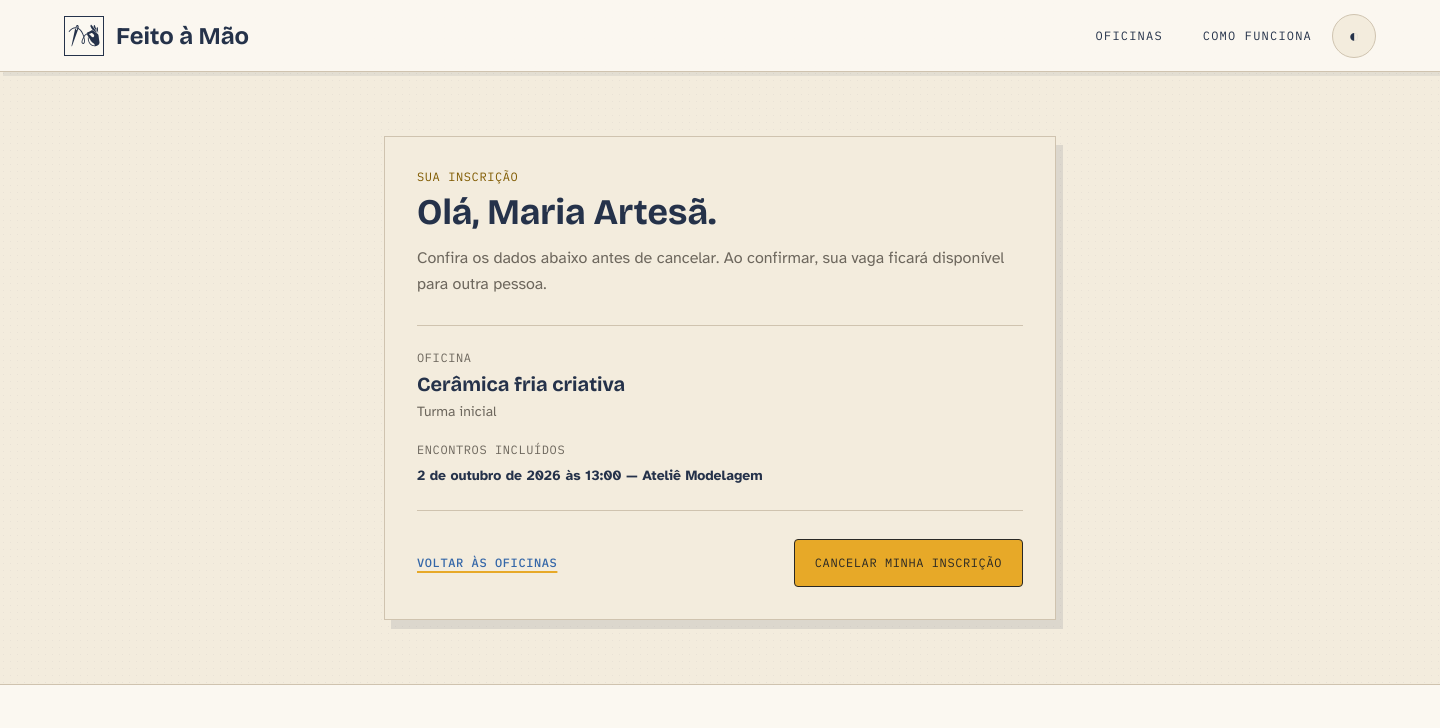
Scenario: EnrollmentCancellationPage › loads the enrollment and cancels it using the URL token
Expected: the heading "Olá, Maria Artesã." is shown, top-left (417, 191), bottom-right (716, 234)
Expected: the text "Cerâmica fria criativa" is shown, top-left (417, 372), bottom-right (625, 396)
Click the button "Cancelar minha inscrição": (908, 563) top-left (794, 539), bottom-right (1023, 587)
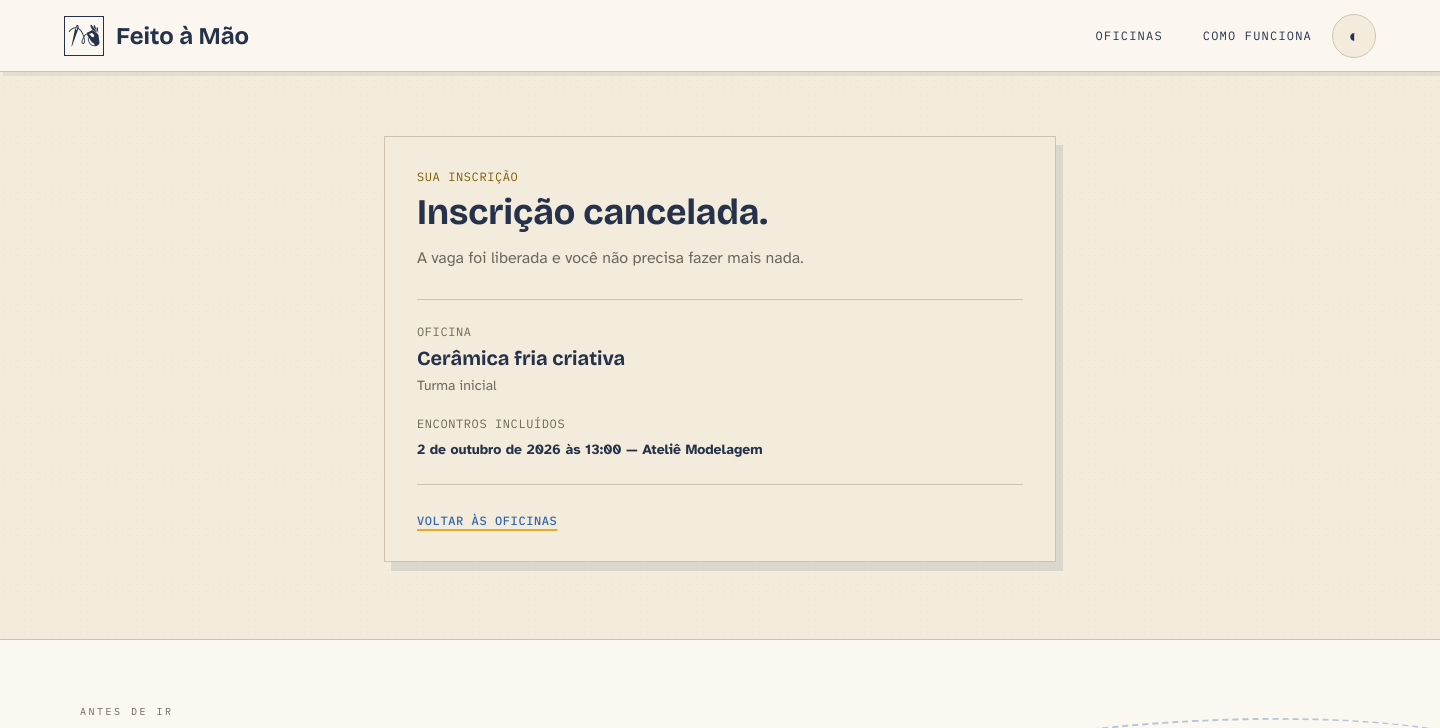
Result: the heading "Inscrição cancelada." is shown at top-left (417, 191), bottom-right (768, 234)
Result: the button "Cancelar minha inscrição" is gone
